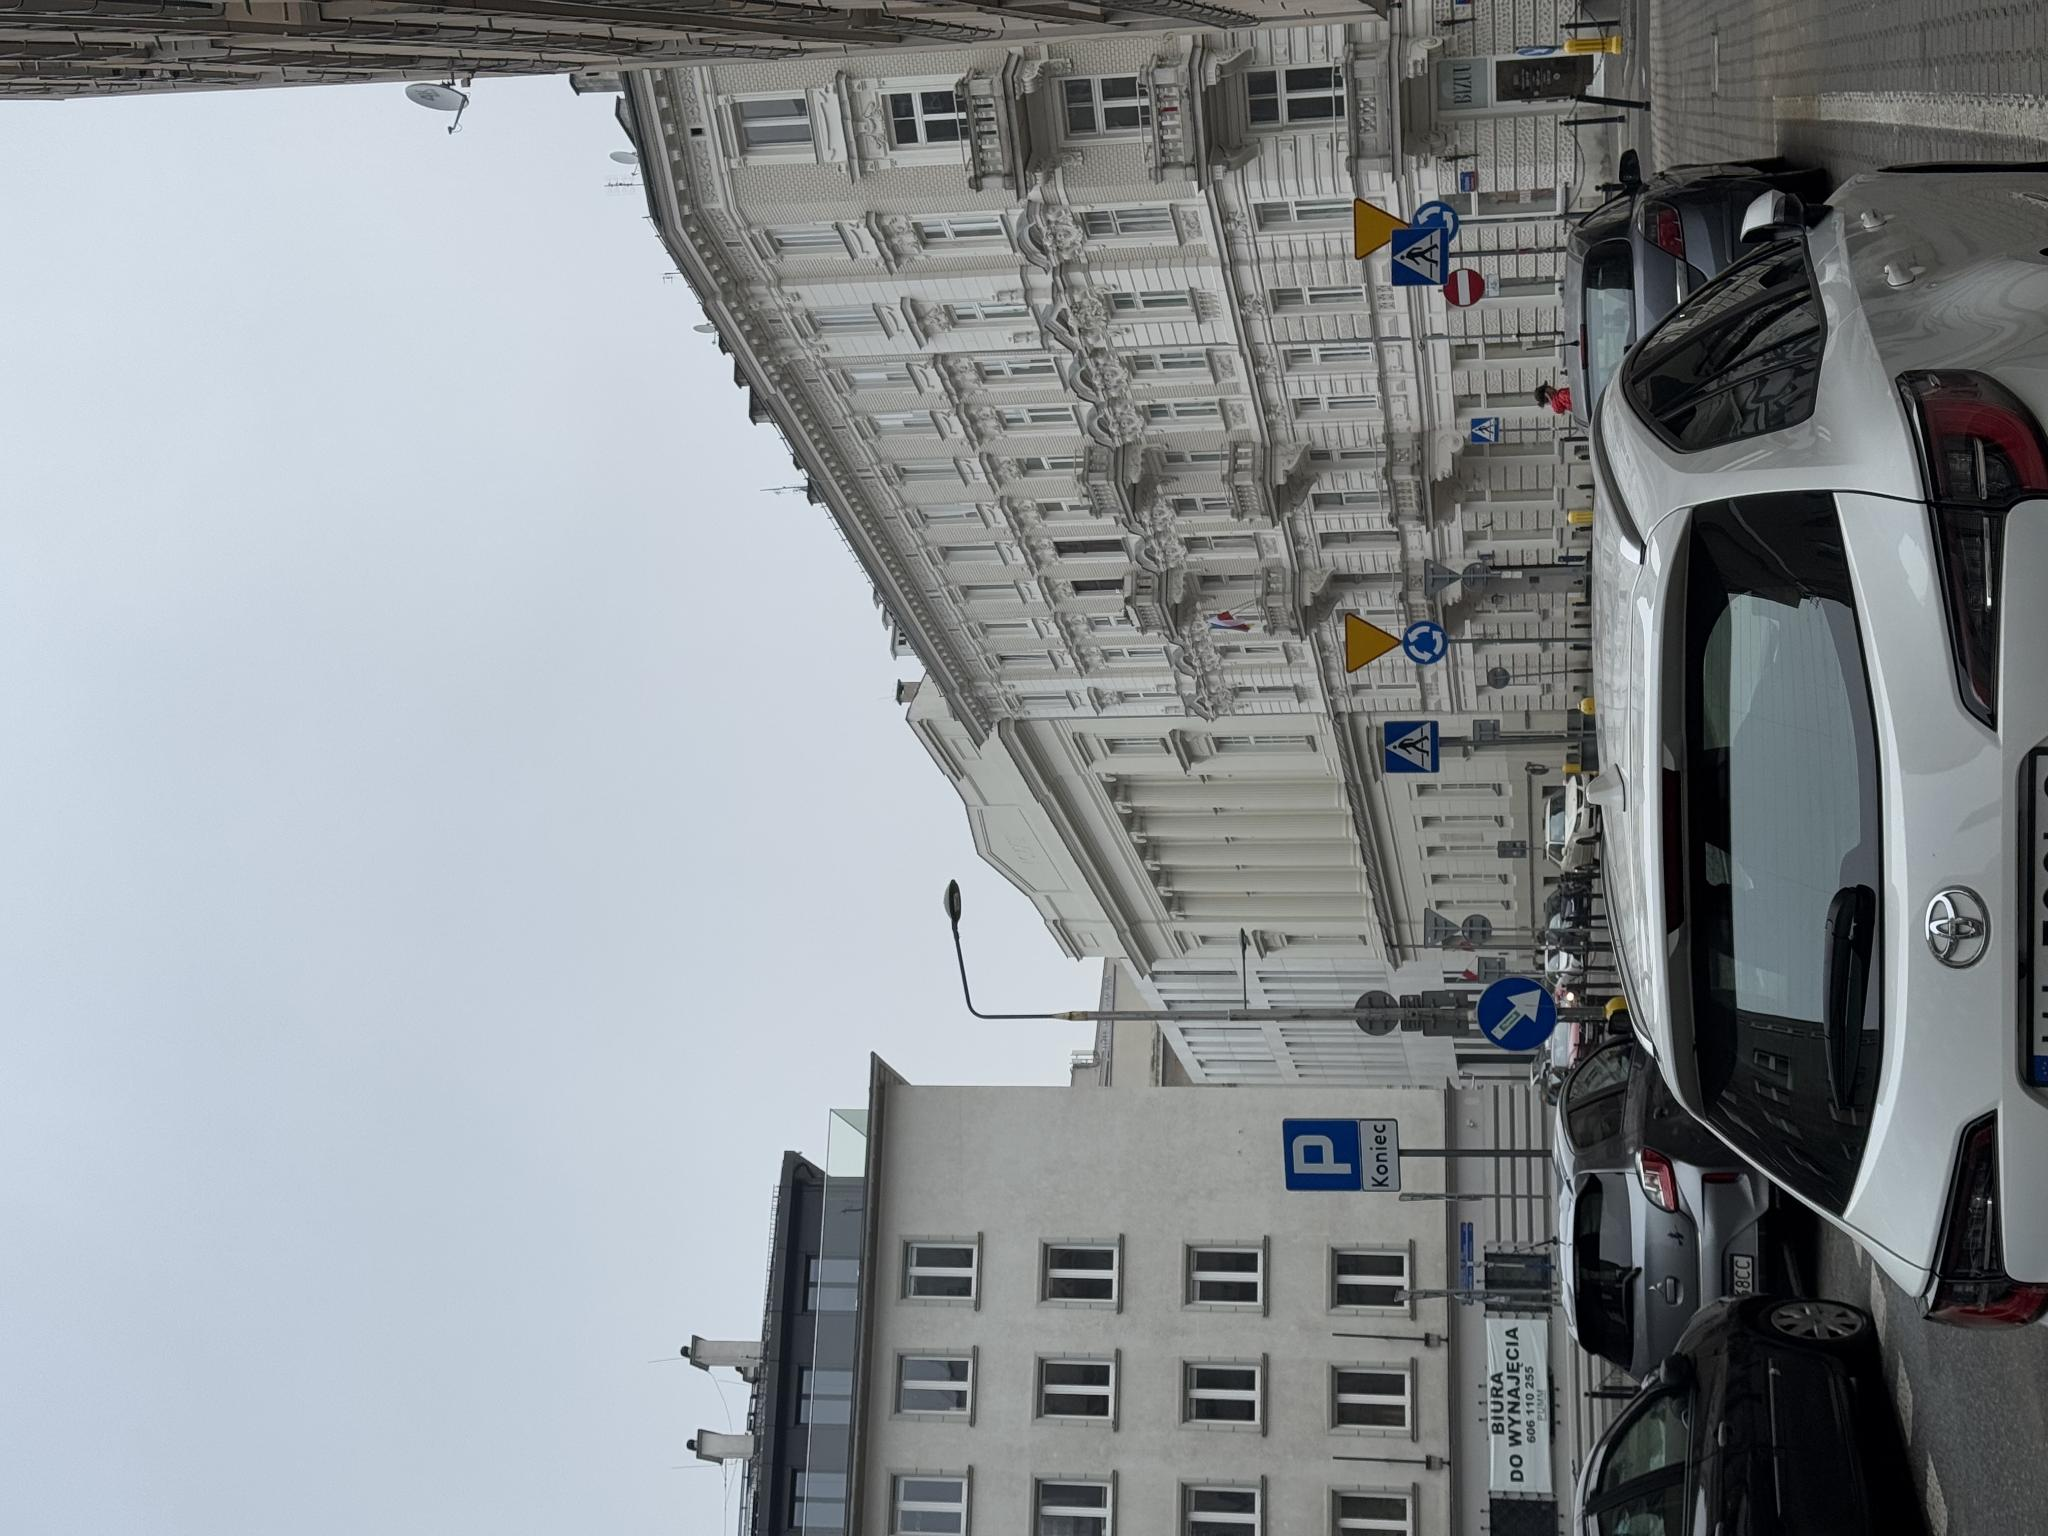information: (343, 1281, 419, 1360), (1250, 1391, 1308, 1449), (761, 1383, 816, 1439), (1092, 1470, 1119, 1499)
mandatory: (484, 1476, 560, 1536), (871, 1400, 918, 1449), (1308, 1412, 1337, 1460), (1479, 1517, 1488, 1536)
other: (343, 1362, 418, 1399)
prohibitory: (1229, 1441, 1268, 1484)
warning: (1276, 1354, 1338, 1413), (863, 1346, 924, 1404)
